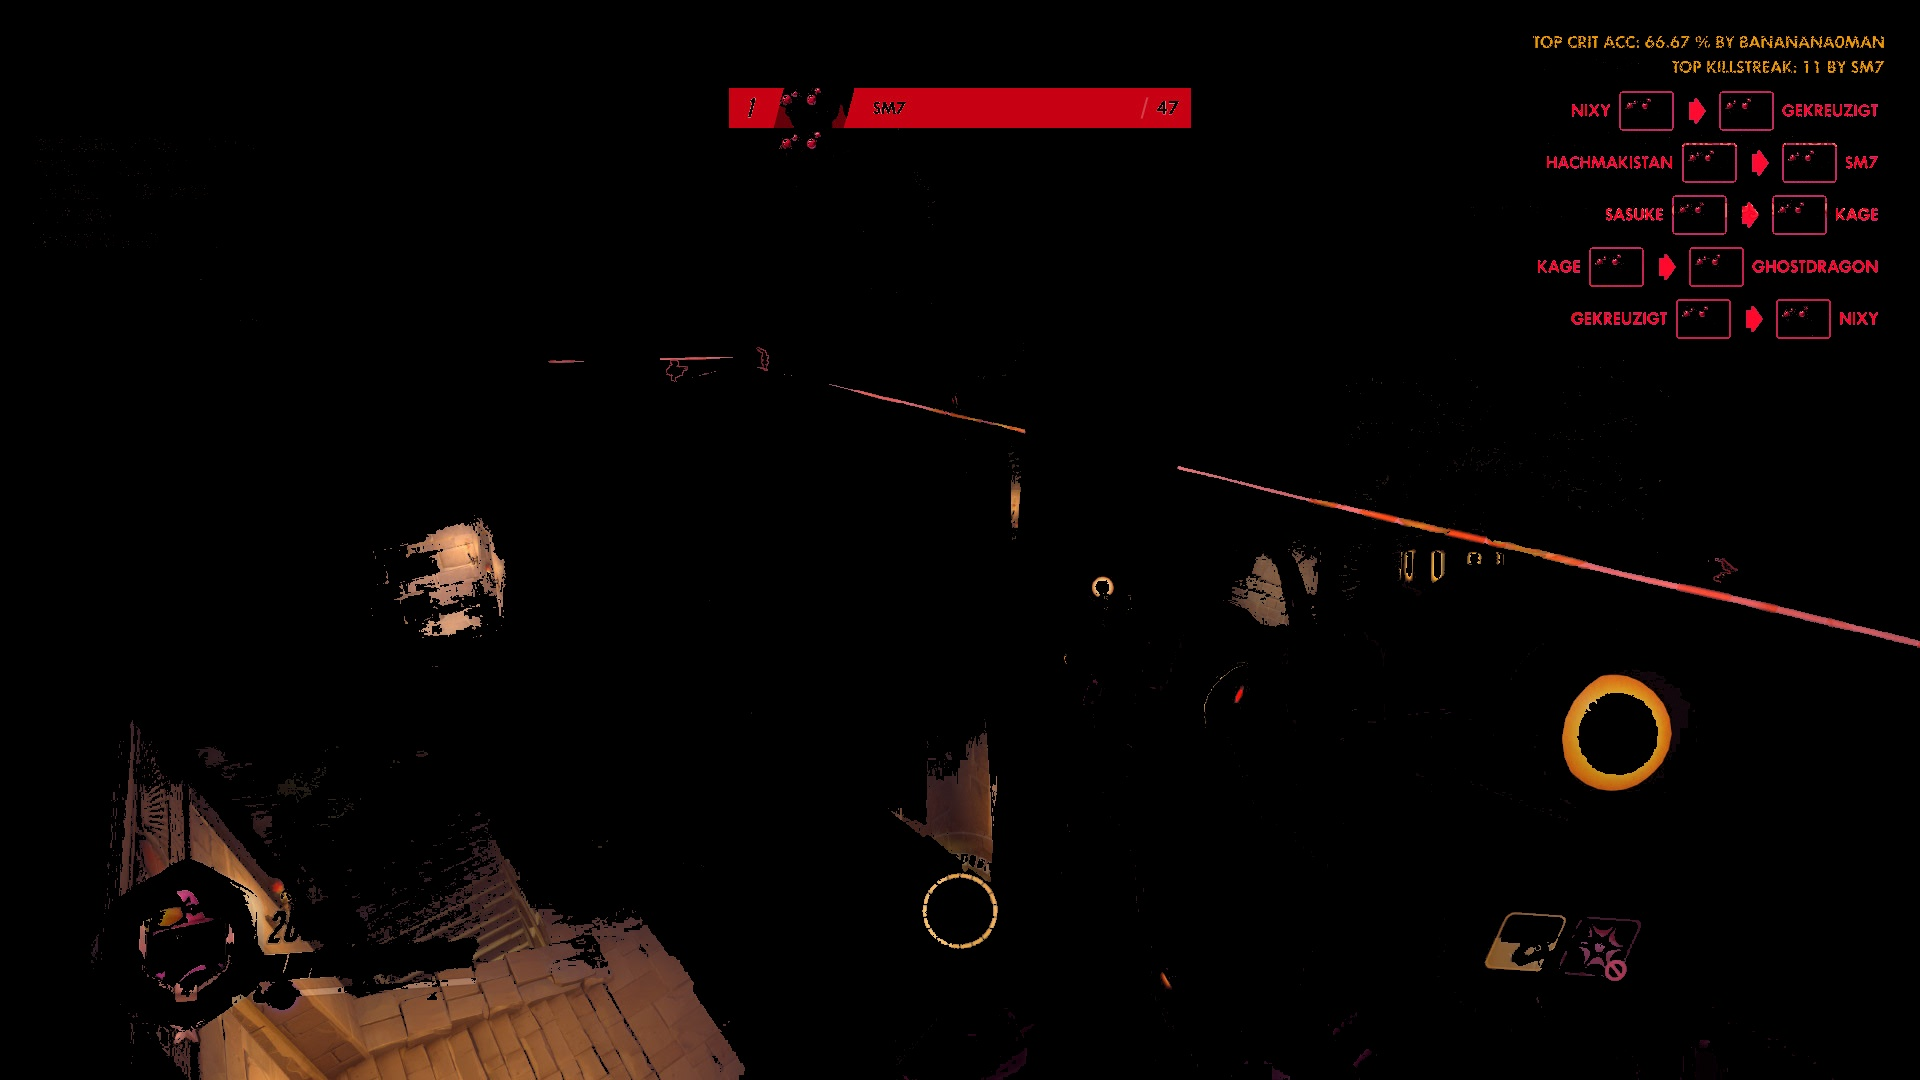widowmaker: (1712, 556, 1743, 589), (665, 357, 688, 384), (756, 347, 771, 372)
